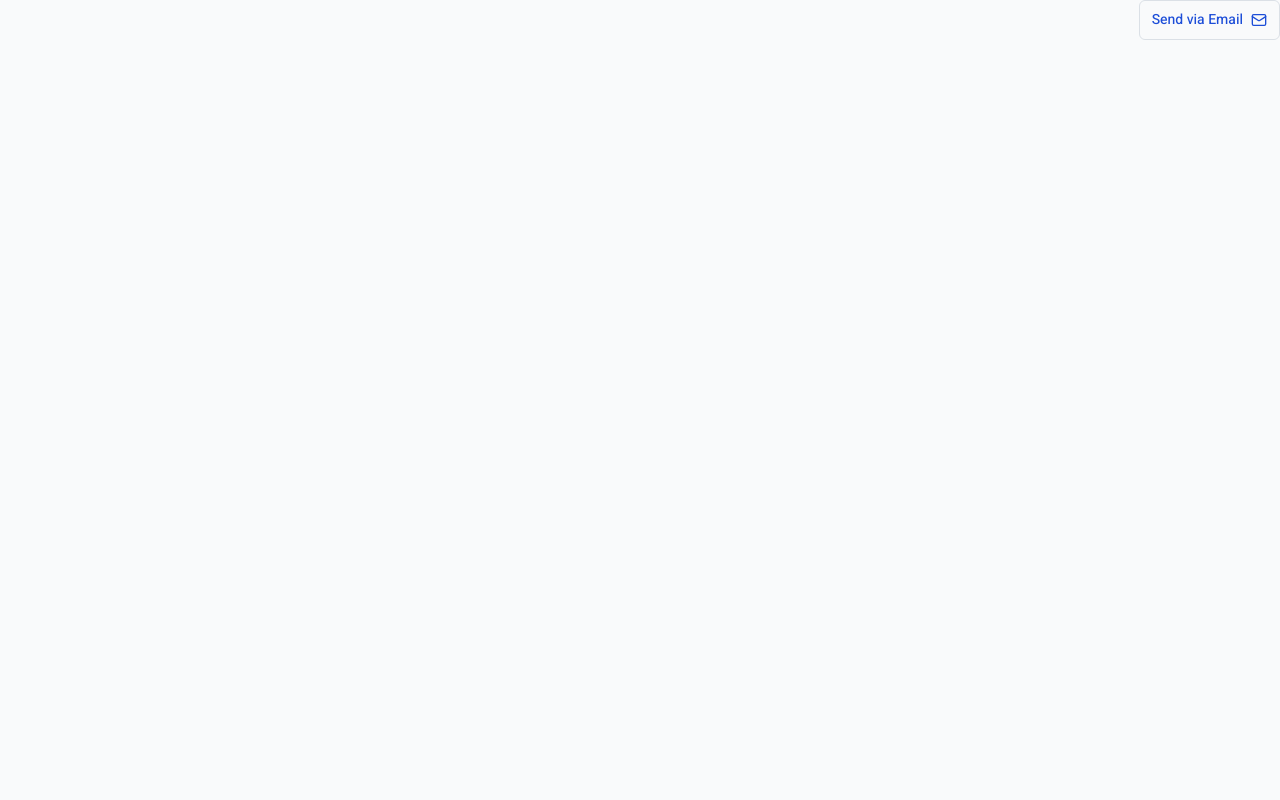
Test: EmailComposer › opens dialog when trigger button is clicked
The width and height of the screenshot is (1280, 800).
Click the button "Send via Email".
click(1209, 20)  # box [1139,0,1279,40]
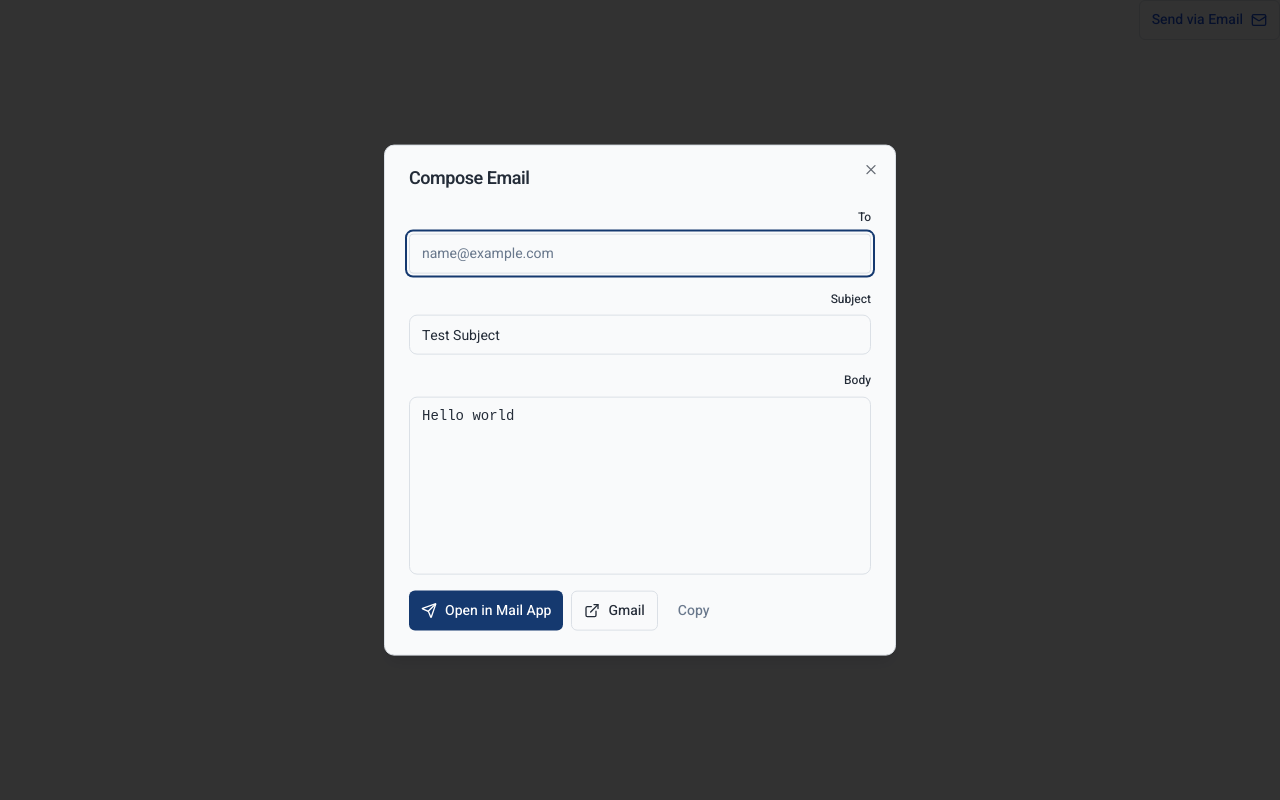
Expected: the heading "Compose Email" is shown, [409,165,529,192]
